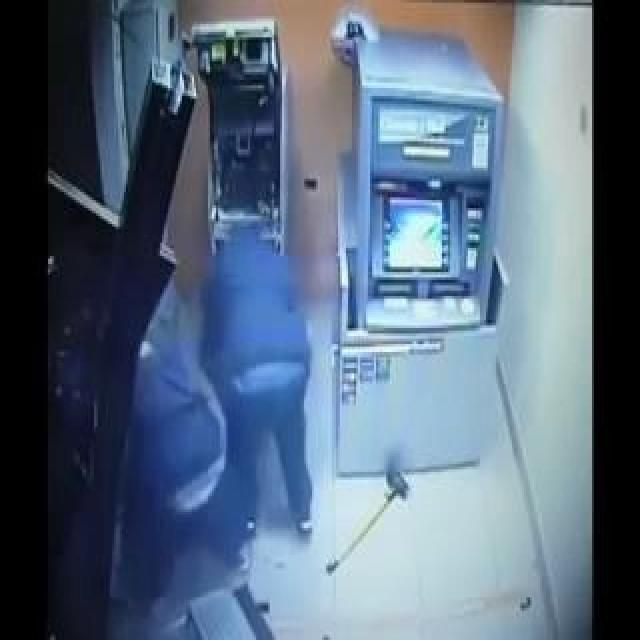thief: (98, 197, 310, 405)
